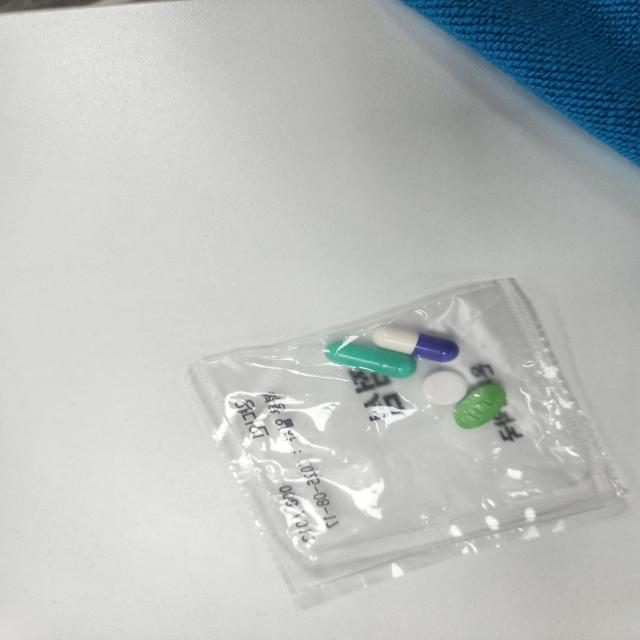러키펜정: (420, 368, 475, 407)
씨엠지세파클러캡슐: (369, 326, 460, 365)
에르도캡슐: (324, 336, 418, 383)
휴티렌정: (455, 377, 509, 431)
